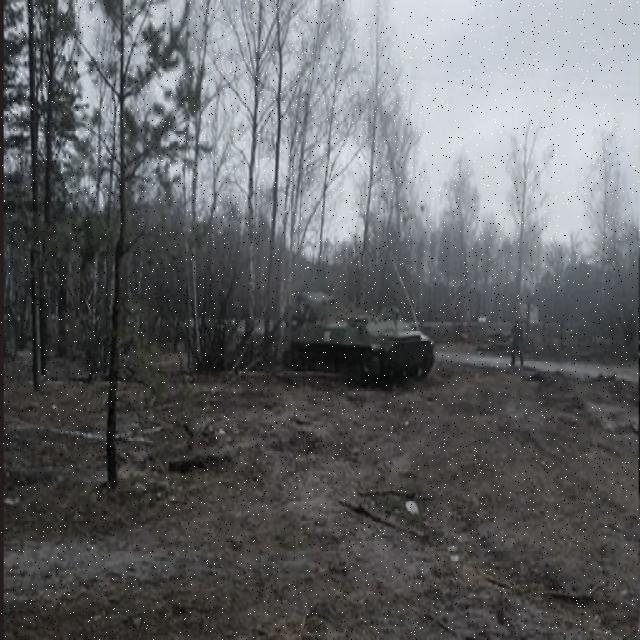APC-IFV: (282, 289, 438, 395)
